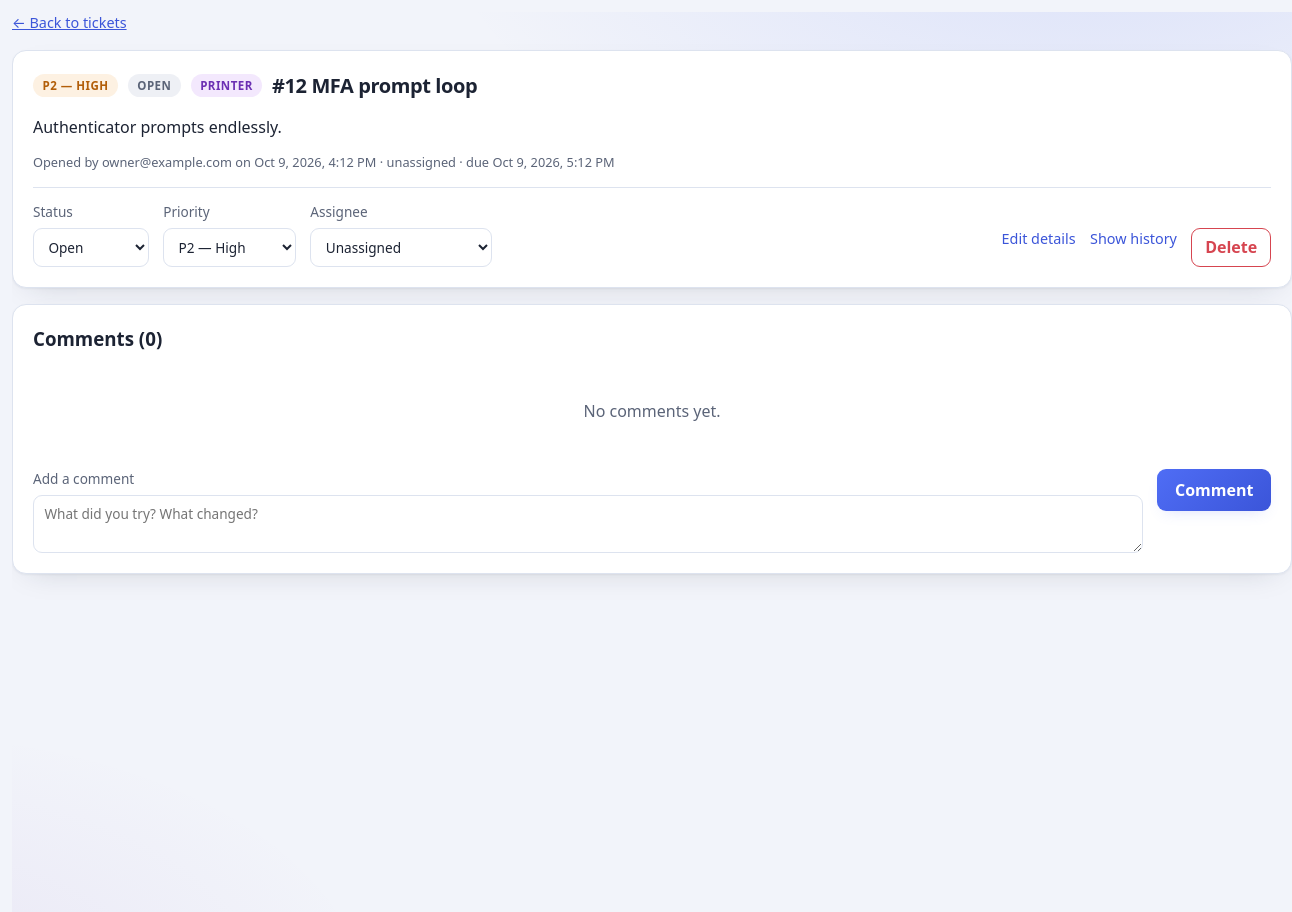
Scenario: delete › shows the error when deletion fails
The width and height of the screenshot is (1292, 912).
Expected: the heading "#12 MFA prompt loop" is shown, [272,71,477,101]
Click the button "Delete".
click(1231, 247)  # box [1191,228,1271,267]
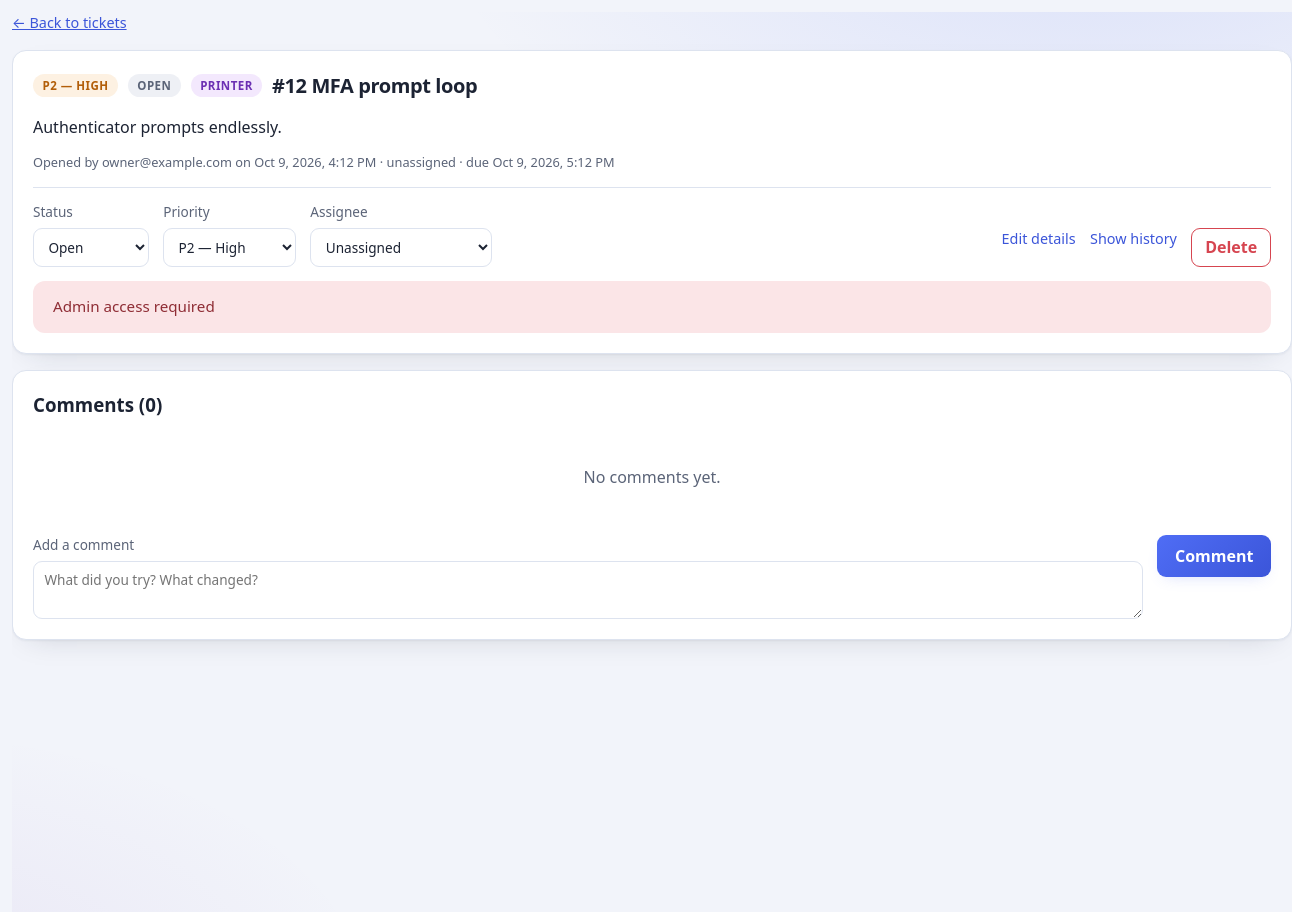
Expected: the message reads "Admin access required", [53,296,215,316]
